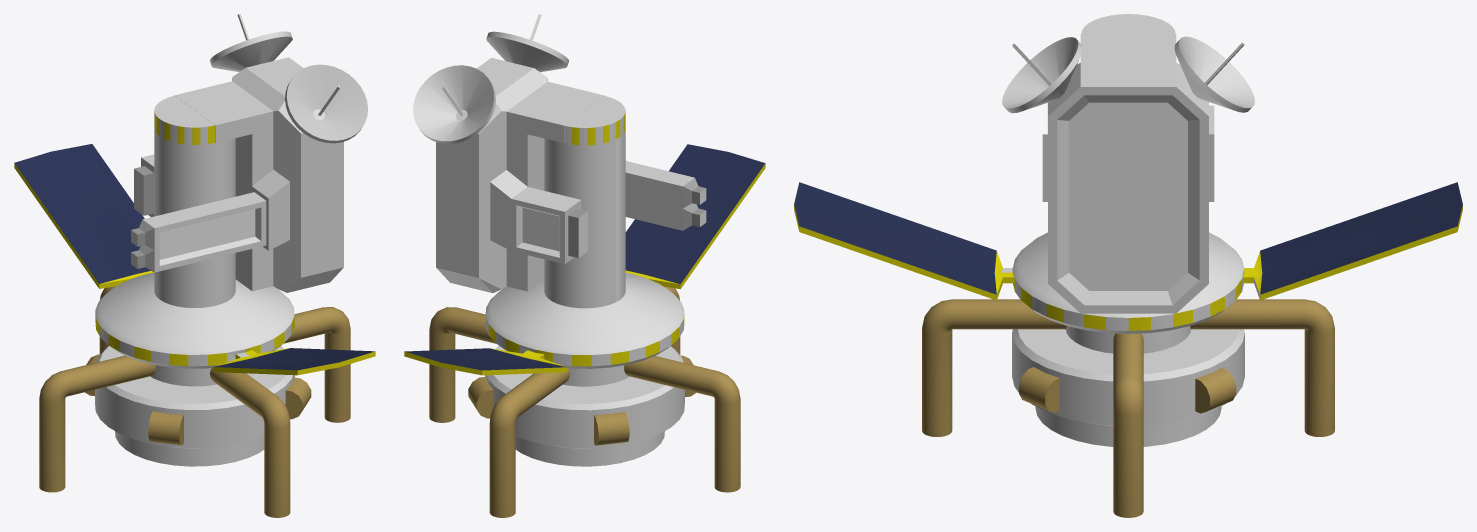
Rendered from Repair.fbx.
The picture shows the model from 3 angles, left to right: view 1: azimuth 30°, elevation 25°; view 2: azimuth 150°, elevation 25°; view 3: azimuth 270°, elevation 25°; orthographic projection. The views are drawn at different scales.
Parts seen in each view (by area): view 1: Repair_main, Repair_up; view 2: Repair_main, Repair_up; view 3: Repair_main, Repair_up.
Part boxes in pixels (x1,y1,x2,y2): Repair_main: [14, 129, 375, 517]; Repair_up: [131, 14, 367, 292]; Repair_main: [404, 129, 765, 517]; Repair_up: [413, 14, 706, 292]; Repair_main: [794, 182, 1462, 517]; Repair_up: [1002, 14, 1254, 313].
Size of the model in its own units: 248 by 293 by 402.
